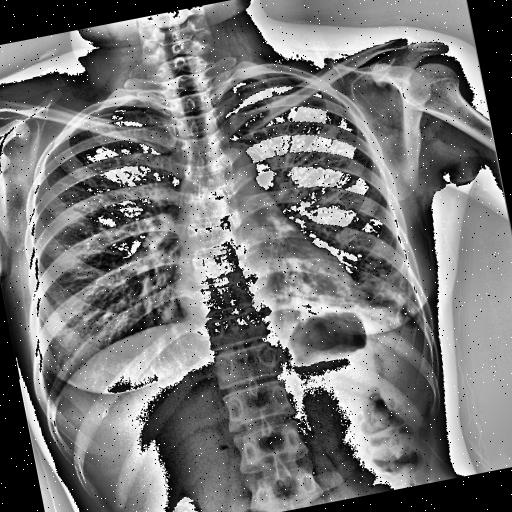10- Pleural effusion: (398, 306, 430, 344)
11- Pleural thickening: (398, 306, 430, 344)
13- Pulmonary fibrosis: (368, 253, 417, 320), (364, 260, 414, 306), (54, 174, 84, 196)
5- ILD: (272, 192, 405, 324)
6- Infiltration: (286, 229, 416, 329), (368, 253, 417, 320)
7- Lung Opacity: (286, 229, 416, 329)
9- Other lesion: (368, 253, 417, 320)
